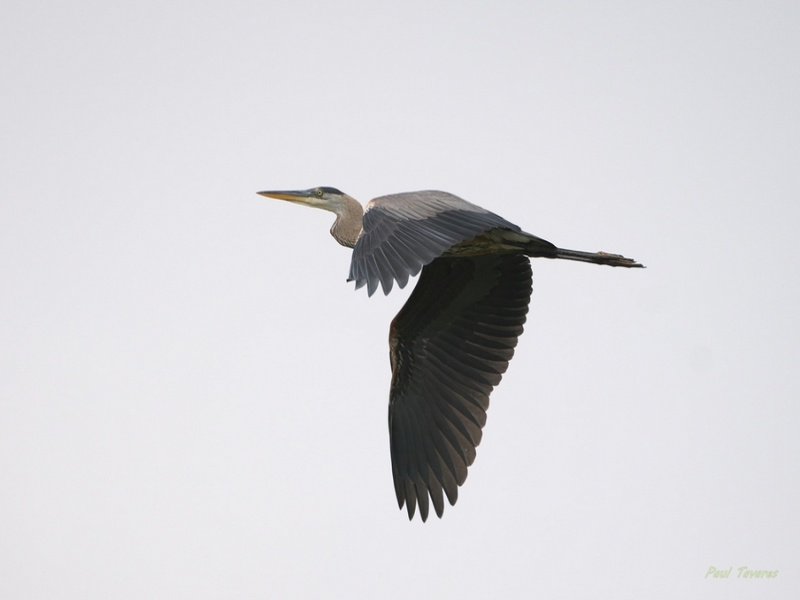heron: (244, 177, 652, 529)
